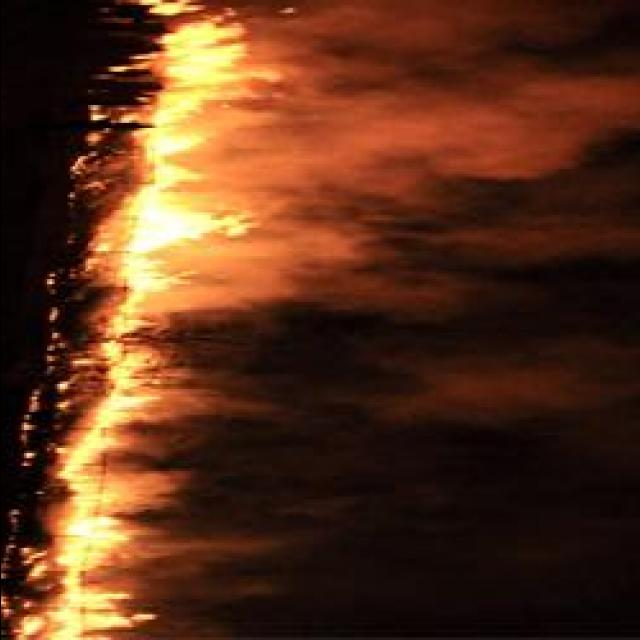fire: (132, 0, 240, 297), (46, 363, 138, 633)
smoke: (294, 20, 630, 186), (225, 210, 425, 314)
